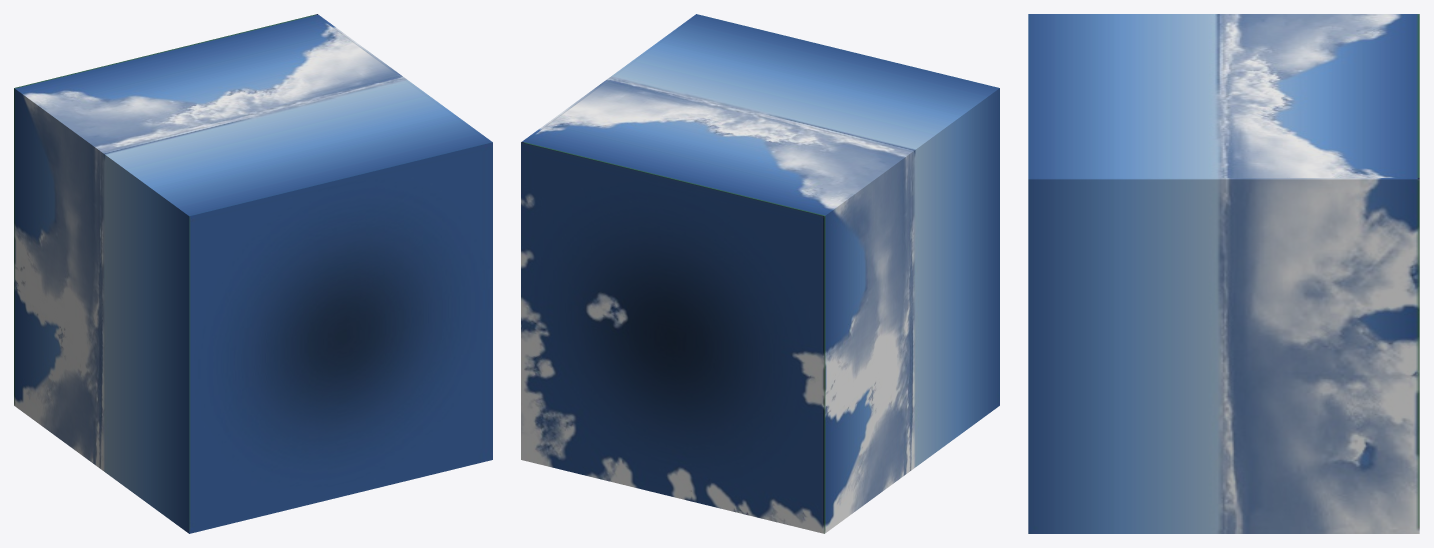
The model's file is SkyBox.DAE.
3 renders of one model, left to right at view 1: azimuth 30°, elevation 25°; view 2: azimuth 150°, elevation 25°; view 3: azimuth 270°, elevation 25°, orthographic. The views are drawn at different scales.
Visible parts, largest first — view 1: Box001; view 2: Box001; view 3: Box001.
Part boxes in pixels (x1,y1,x2,y2): Box001: (14,14,492,533); Box001: (521,14,999,533); Box001: (1028,14,1419,533).
Bounding box in the file's own units: 39.37 × 39.37 × 39.37.
1 material, 1 textured.
